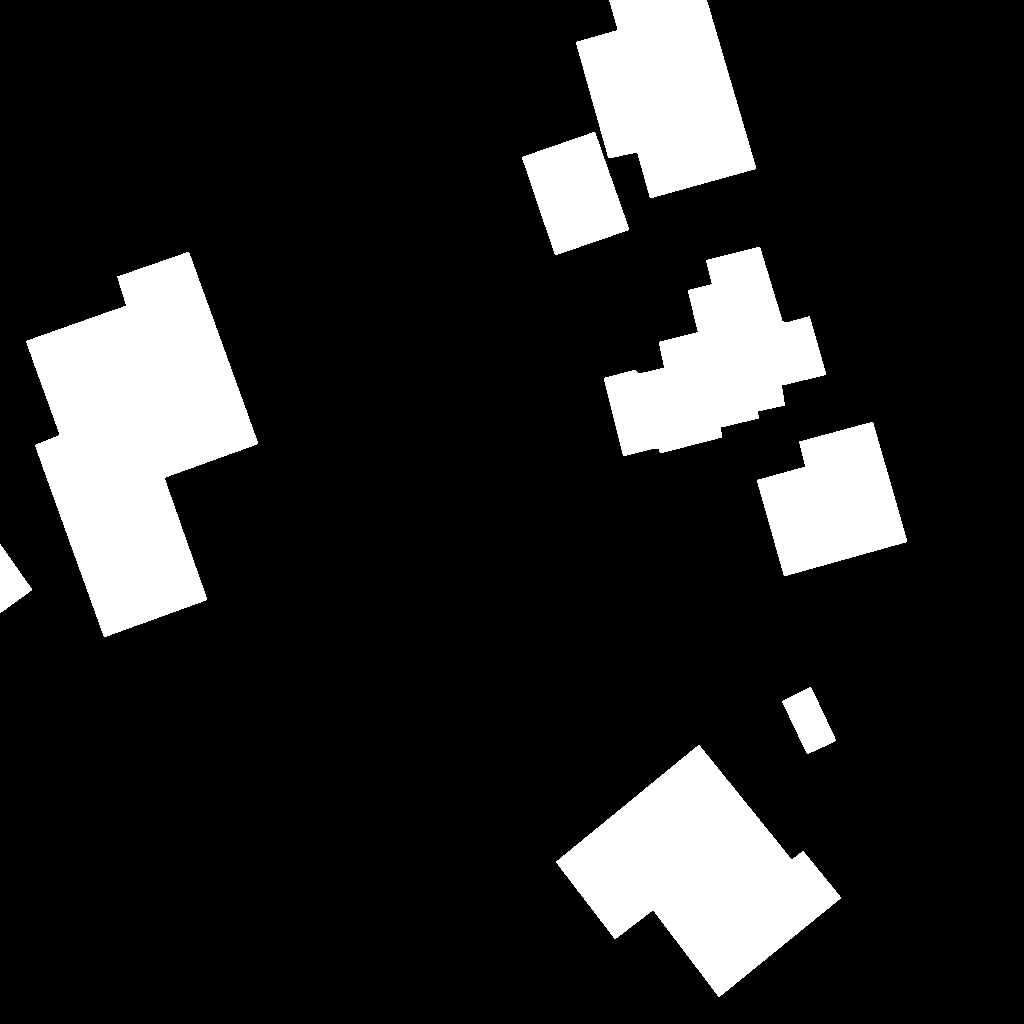building: (26, 252, 259, 638), (556, 745, 842, 998), (604, 247, 827, 457), (576, 0, 757, 199), (757, 422, 908, 577), (522, 132, 630, 256), (782, 687, 837, 755), (0, 544, 33, 614)
